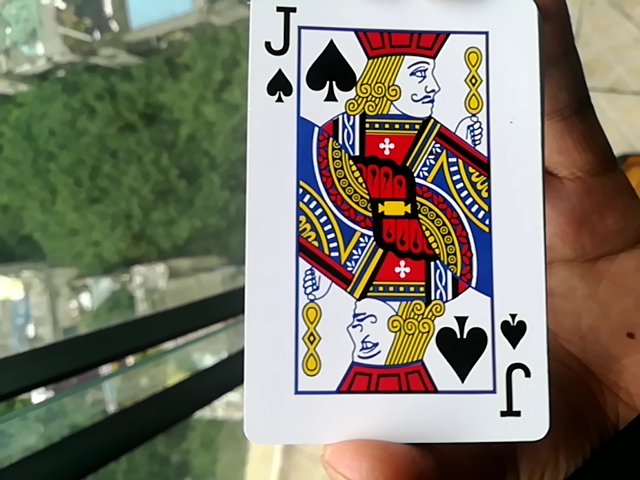ht j: (233, 14, 556, 447)
